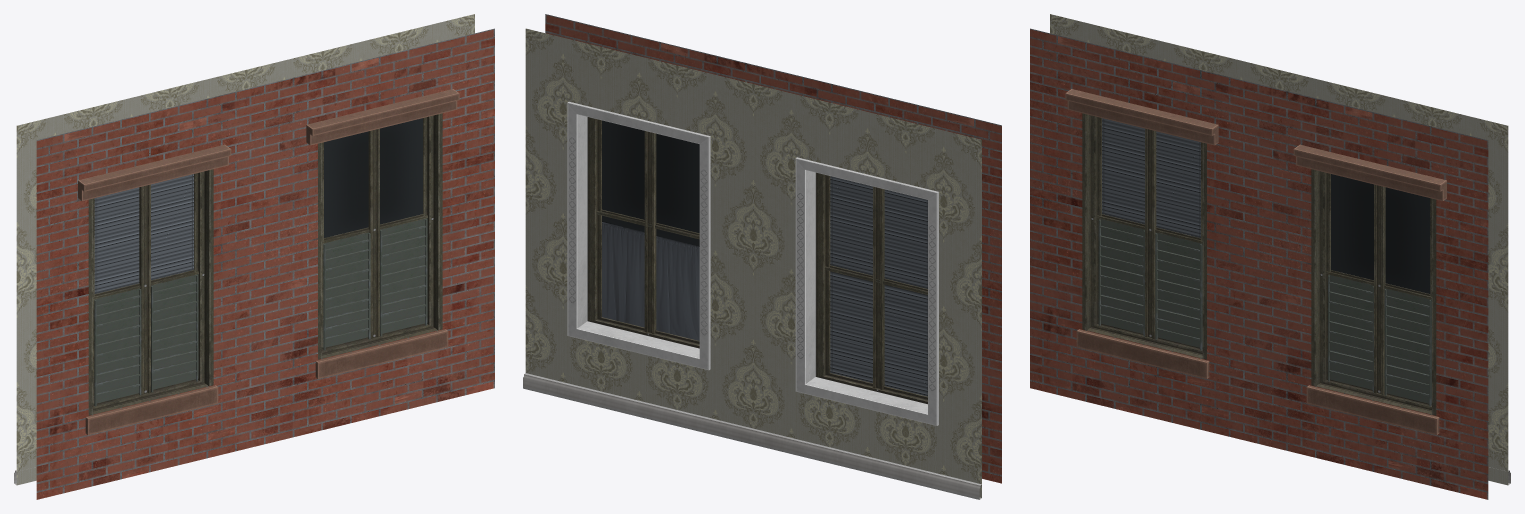
Rendered from House_07_Windows_02.fbx.
3 renders of one model, left to right at view 1: azimuth 30°, elevation 25°; view 2: azimuth 150°, elevation 25°; view 3: azimuth 330°, elevation 25°, orthographic.
Parts seen in each view (by area): view 1: House_07_Windows_02_LOD0; view 2: House_07_Windows_02_LOD0; view 3: House_07_Windows_02_LOD0.
Boxes of the visible parts, x1,y1,x2,y2 form: House_07_Windows_02_LOD0: (14, 14, 494, 499); House_07_Windows_02_LOD0: (523, 14, 1001, 499); House_07_Windows_02_LOD0: (1030, 14, 1510, 499).
Size of what is drawn, in the model's own units: 400 by 300 by 43.29.
